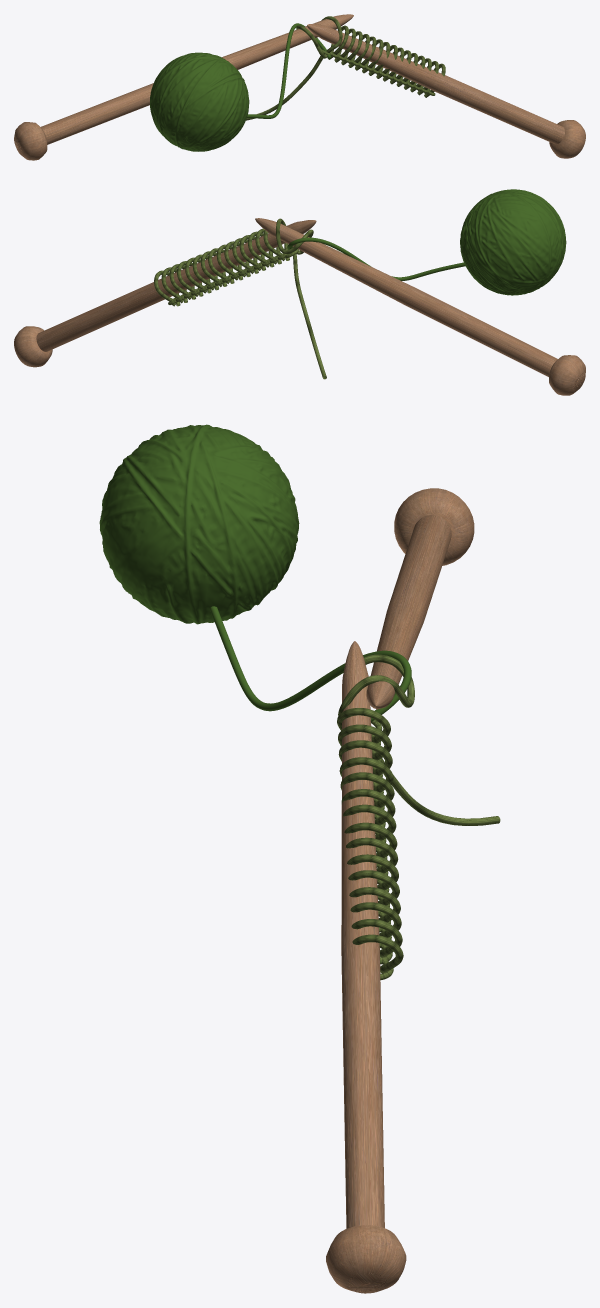
The model's file is knit3.glb.
The picture shows the model from 3 angles, top to bottom: view 1: azimuth 30°, elevation 25°; view 2: azimuth 150°, elevation 25°; view 3: azimuth 270°, elevation 25°; orthographic projection. The views are drawn at different scales.
Visible parts, largest first — view 1: SM_Globe6HD_retopo_blinn2_0_4, niddle, niddle.001, topring.015, topring.016; view 2: SM_Globe6HD_retopo_blinn2_0_4, niddle.001, niddle, topring.015, topring.016; view 3: SM_Globe6HD_retopo_blinn2_0_4, niddle, niddle.001, topring.016, topring.015.
Part boxes in pixels (left/top/right/bottom): SM_Globe6HD_retopo_blinn2_0_4: left=150, top=52, right=249, bottom=151; niddle: left=307, top=24, right=585, bottom=158; niddle.001: left=14, top=14, right=353, bottom=160; topring.015: left=246, top=16, right=342, bottom=120; topring.016: left=247, top=23, right=331, bottom=118; SM_Globe6HD_retopo_blinn2_0_4: left=460, top=189, right=566, bottom=295; niddle.001: left=255, top=218, right=585, bottom=395; niddle: left=14, top=220, right=316, bottom=367; topring.015: left=276, top=218, right=326, bottom=379; topring.016: left=287, top=237, right=465, bottom=280; SM_Globe6HD_retopo_blinn2_0_4: left=99, top=424, right=299, bottom=624; niddle: left=326, top=641, right=406, bottom=1293; niddle.001: left=366, top=488, right=474, bottom=709; topring.016: left=210, top=606, right=411, bottom=721; topring.015: left=338, top=654, right=500, bottom=825.
Bounding box in the file's own units: 6.54 × 2.63 × 2.07.
Materials: 3 (2 with a texture image).
